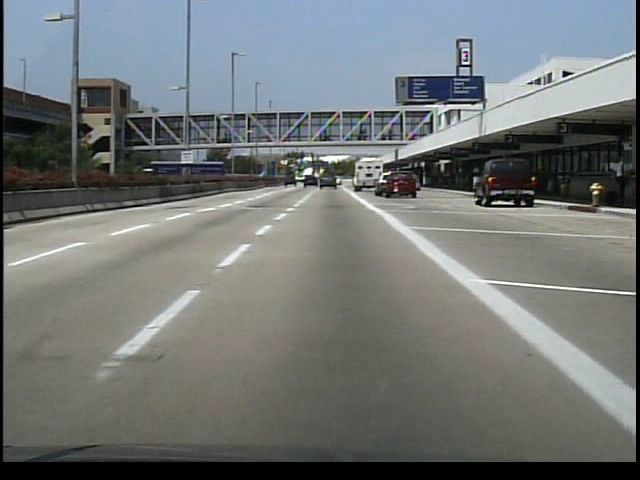person: (606, 154, 628, 206), (407, 170, 423, 196)
